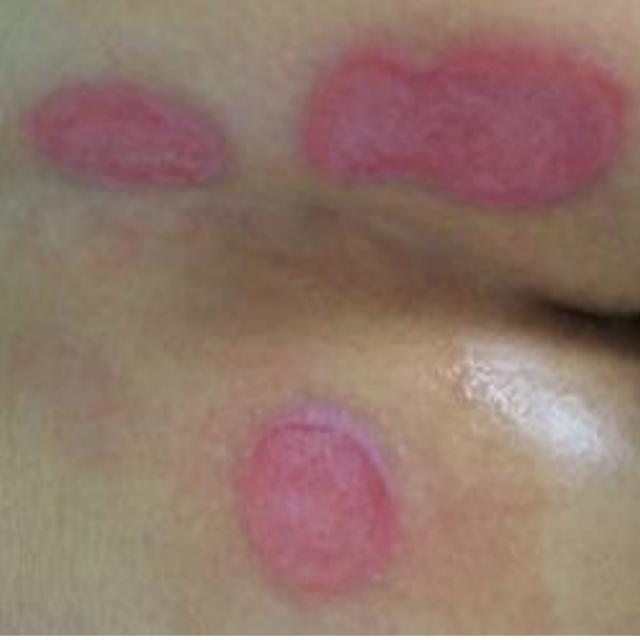stage-2: (301, 46, 626, 207), (248, 424, 391, 584), (25, 82, 226, 186)
